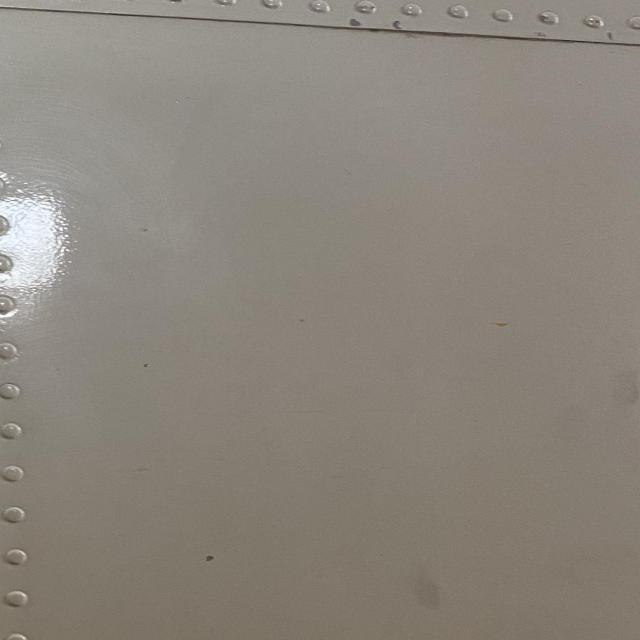Paint-off: (347, 15, 368, 29), (603, 27, 621, 42), (389, 17, 409, 29), (204, 555, 218, 566)
